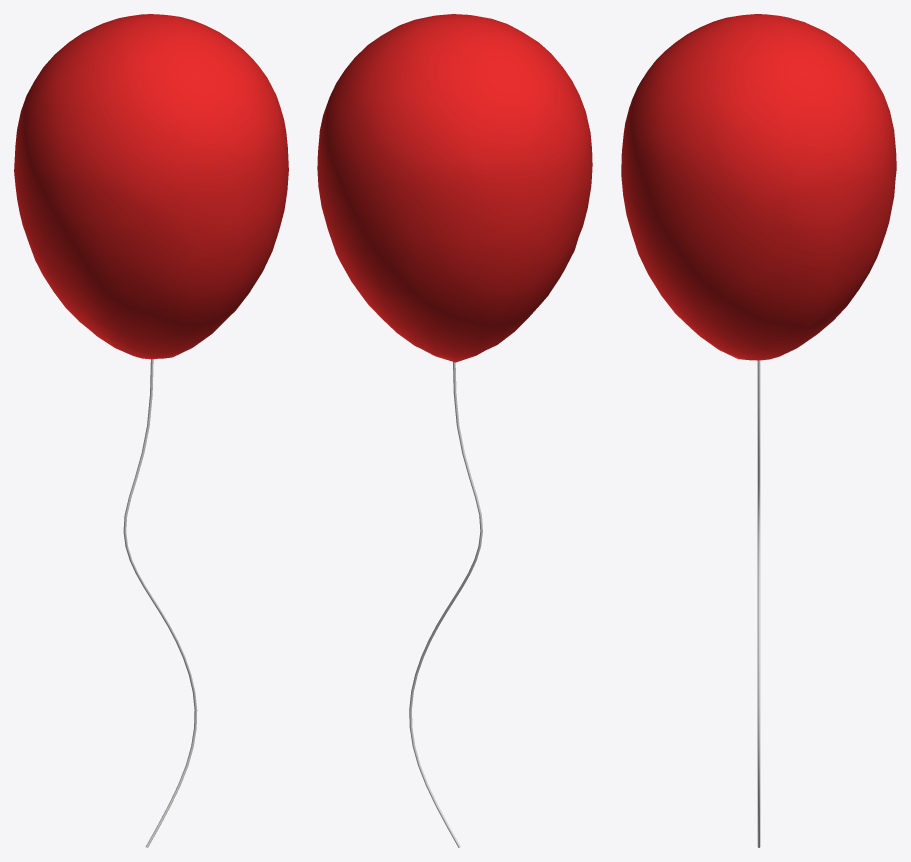
The picture shows the model from 3 angles, left to right: view 1: azimuth 30°, elevation 25°; view 2: azimuth 150°, elevation 25°; view 3: azimuth 270°, elevation 25°; orthographic projection.
Visible parts, largest first — view 1: pPlatonic1, extrudedSurface1; view 2: pPlatonic1, extrudedSurface1; view 3: pPlatonic1, extrudedSurface1.
Part boxes in pixels (bbox=[...]): pPlatonic1: bbox=[14, 14, 288, 359]; extrudedSurface1: bbox=[123, 359, 197, 847]; pPlatonic1: bbox=[317, 14, 592, 362]; extrudedSurface1: bbox=[409, 362, 482, 847]; pPlatonic1: bbox=[621, 14, 896, 360]; extrudedSurface1: bbox=[757, 360, 760, 847].
Bounding box in the file's own units: 2.02 × 6.66 × 2.02.
